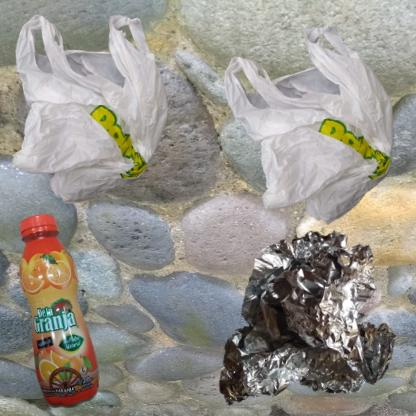aluminio: (213, 213, 416, 416)
bolsa: (213, 10, 416, 265), (10, 10, 172, 209)
botella: (10, 213, 111, 416)
